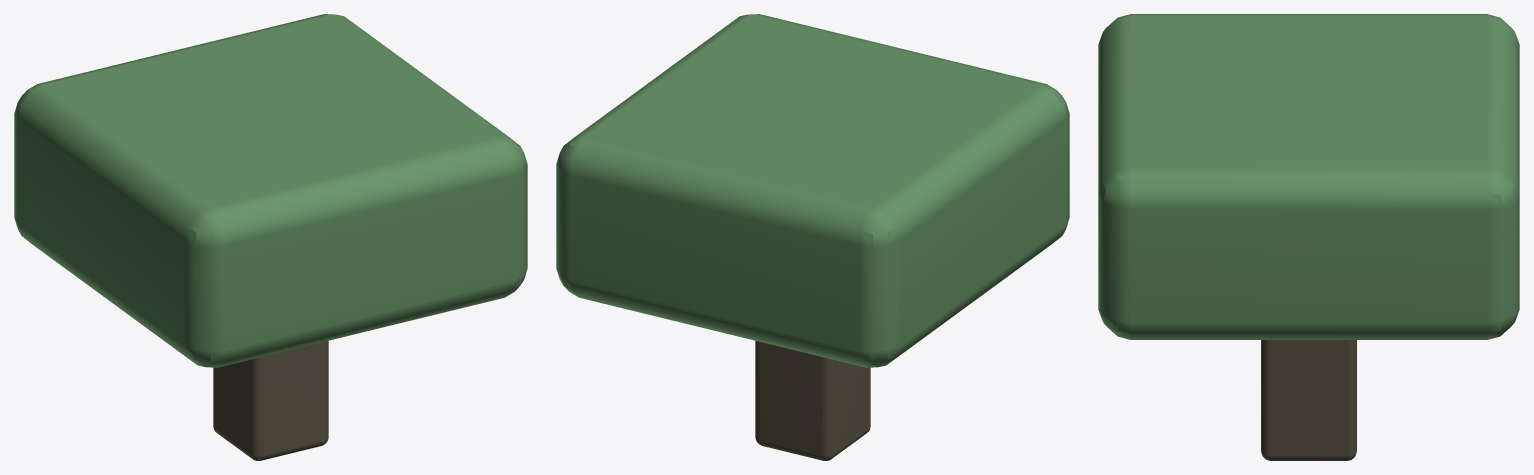
Rendered from Tree_002.fbx.
The picture shows the model from 3 angles, left to right: view 1: azimuth 30°, elevation 25°; view 2: azimuth 150°, elevation 25°; view 3: azimuth 270°, elevation 25°; orthographic projection. The views are drawn at different scales.
Parts seen in each view (by area): view 1: Tree_002; view 2: Tree_002; view 3: Tree_002.
Part boxes in pixels (x1,y1,x2,y2): Tree_002: (14,14,527,460); Tree_002: (556,14,1069,460); Tree_002: (1098,14,1519,460).
Bounding box in the file's own units: 1.08 × 0.9936 × 1.08.
